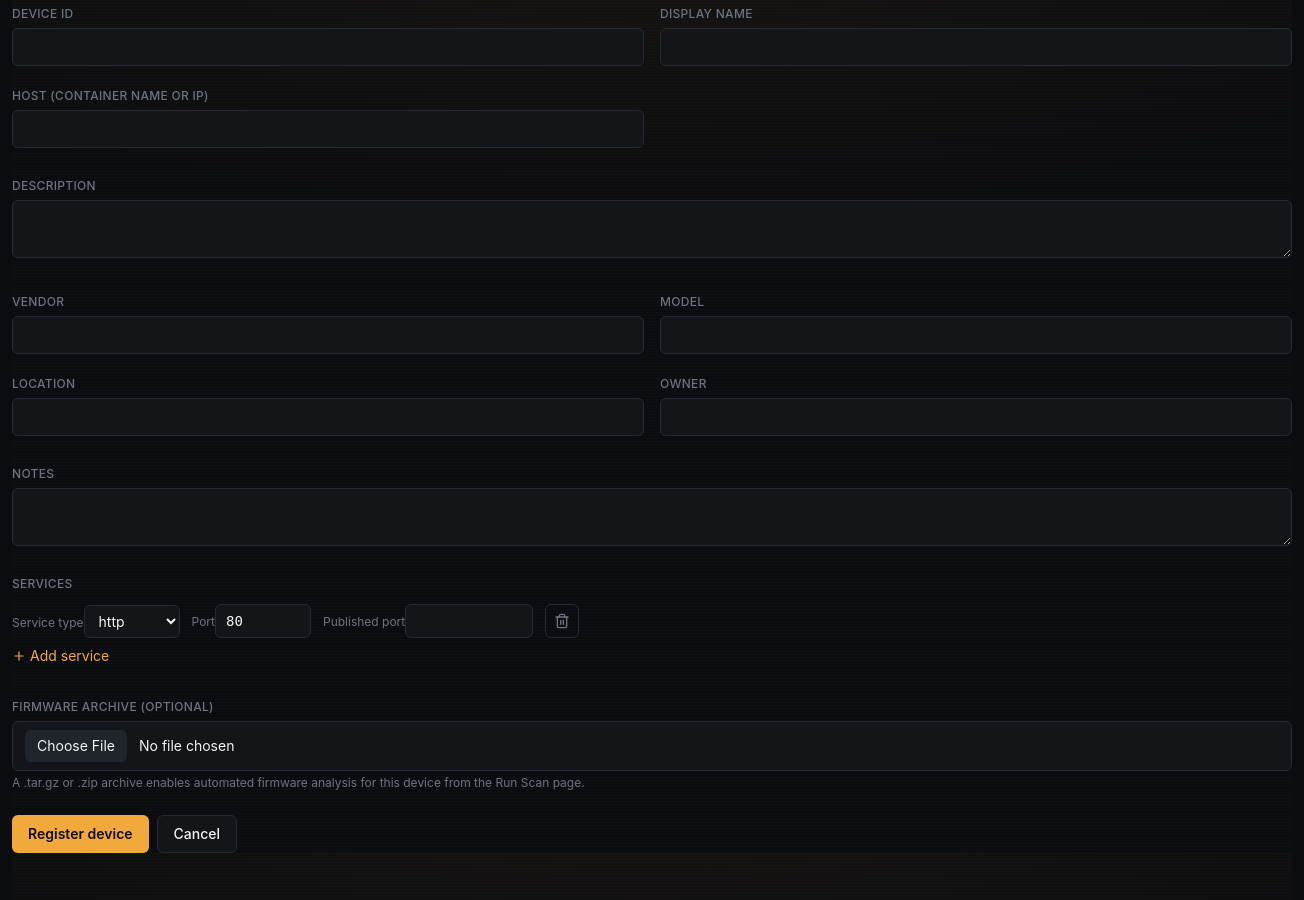
Test: RegisterDeviceForm › shows a service-row API error even though the backend doesn't say which row
In the field labelled "Device ID": (328, 47) x1=12 y1=28 x2=644 y2=66, type "test-camera"
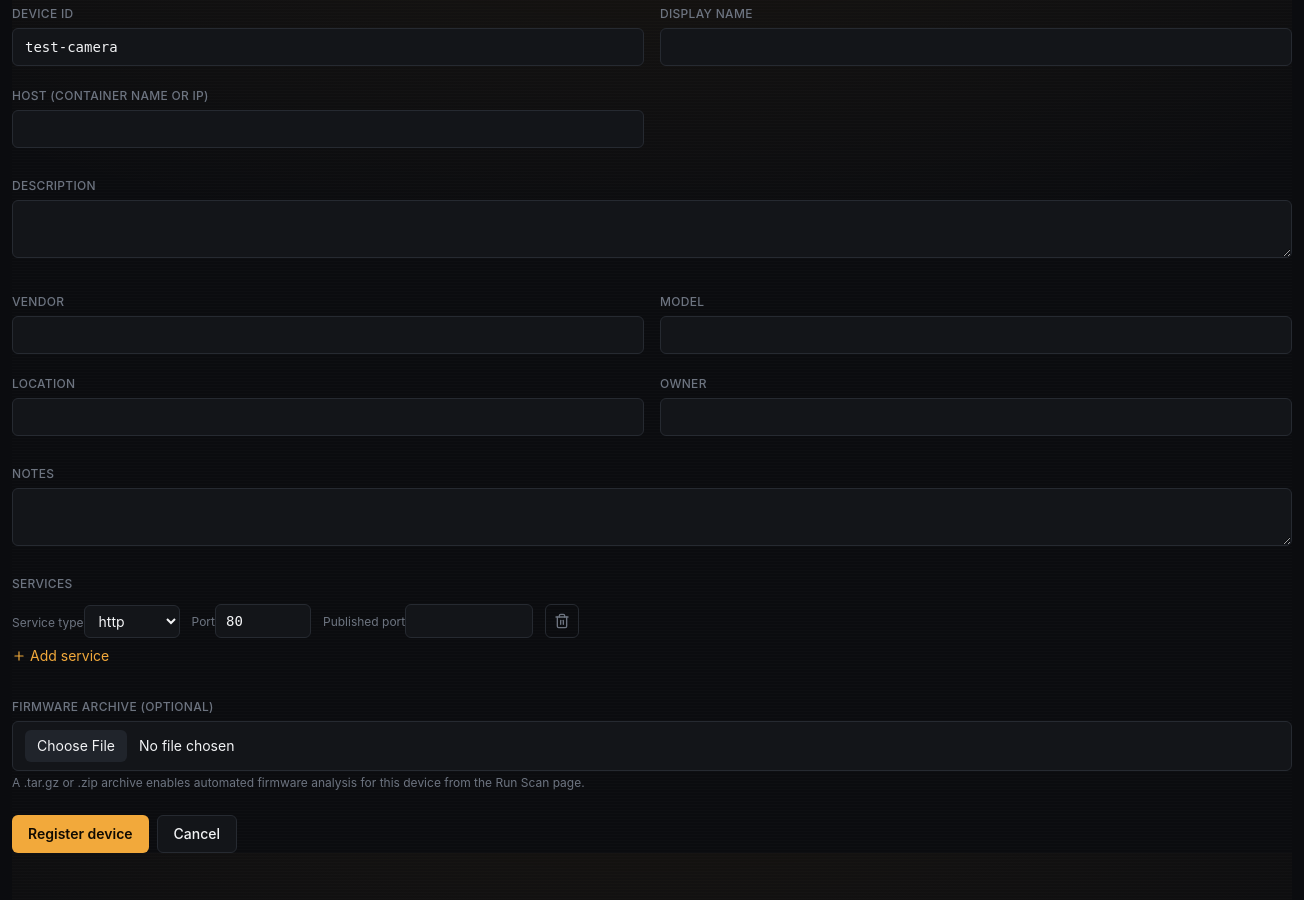
In the field labelled "Display name": (976, 47) x1=660 y1=28 x2=1292 y2=66, type "Test Camera"
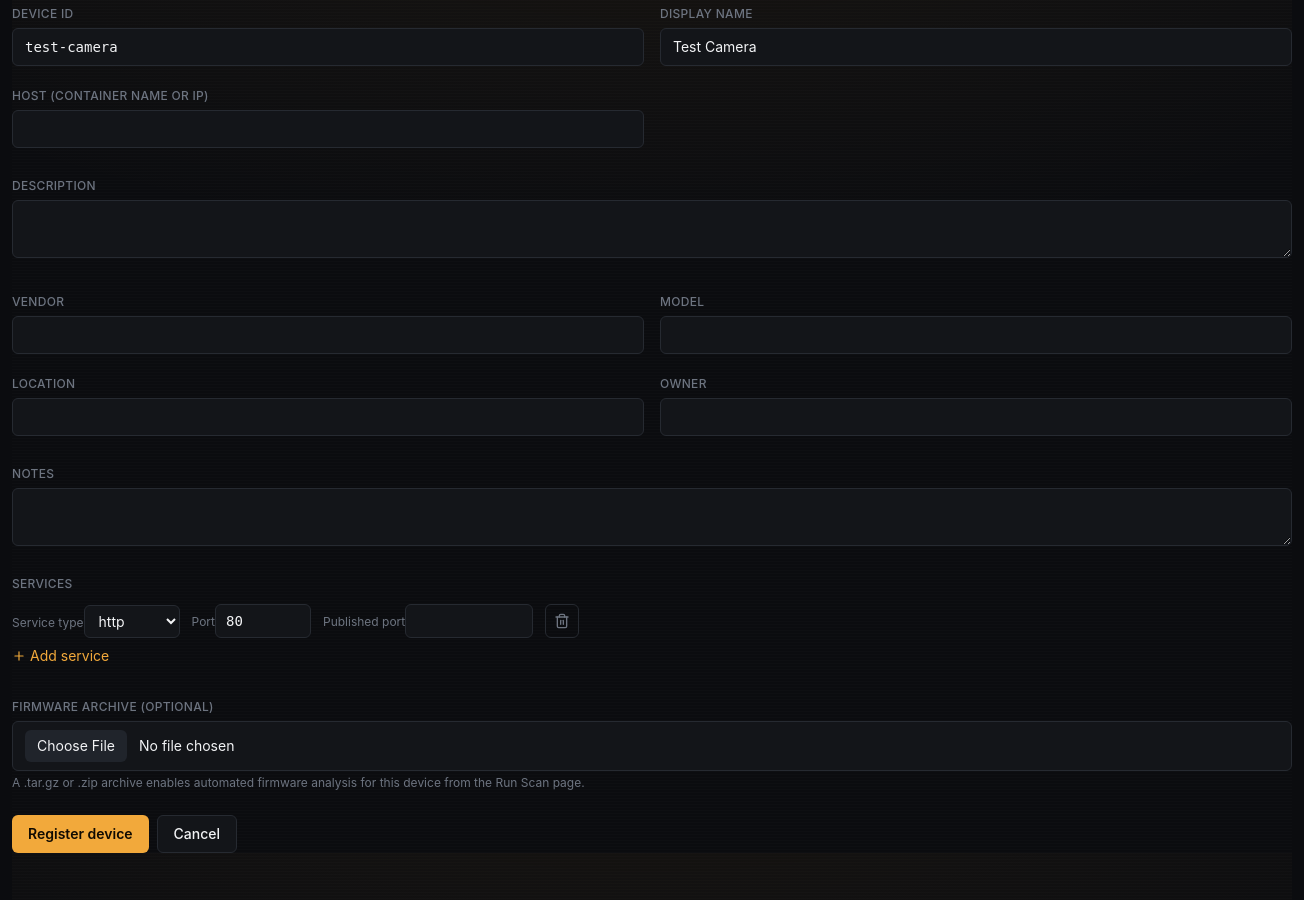
In the field labelled "Host (container name or IP)": (328, 129) x1=12 y1=110 x2=644 y2=148, type "test-camera"
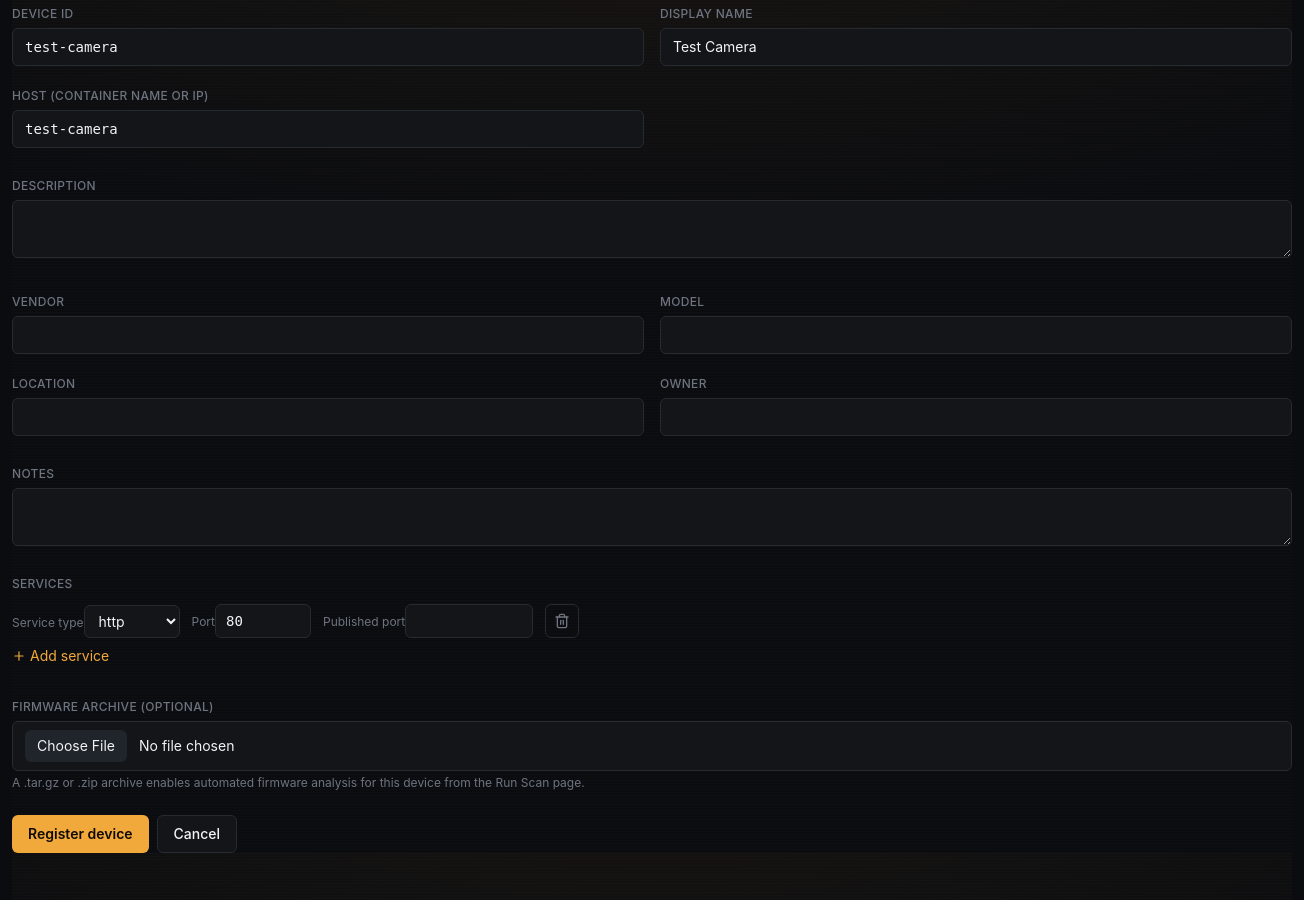
Click the button "Register device": click(80, 834) x1=12 y1=815 x2=149 y2=853
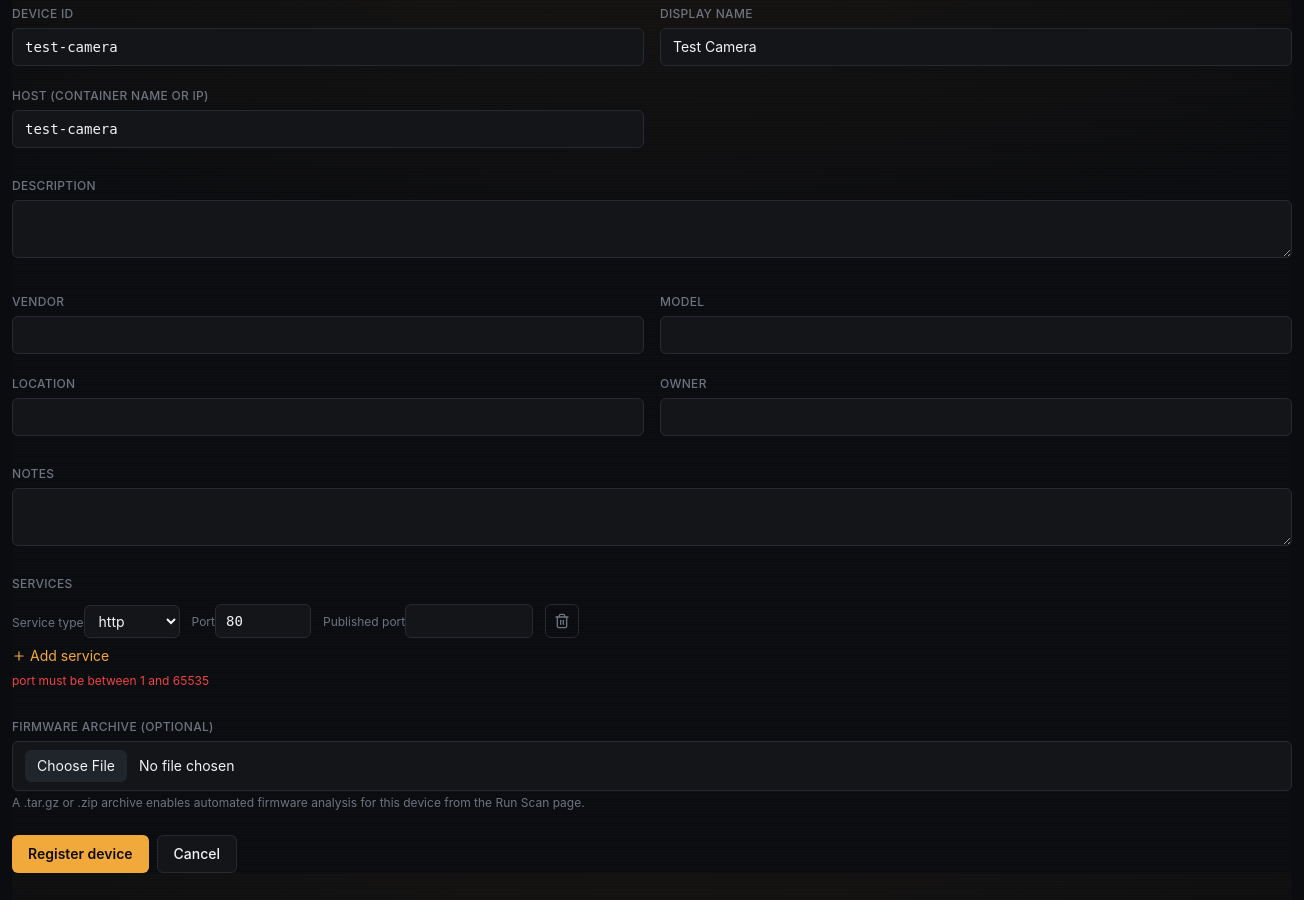
Expected: the text "port must be between 1 and 65535" is shown, x1=12 y1=673 x2=209 y2=688
